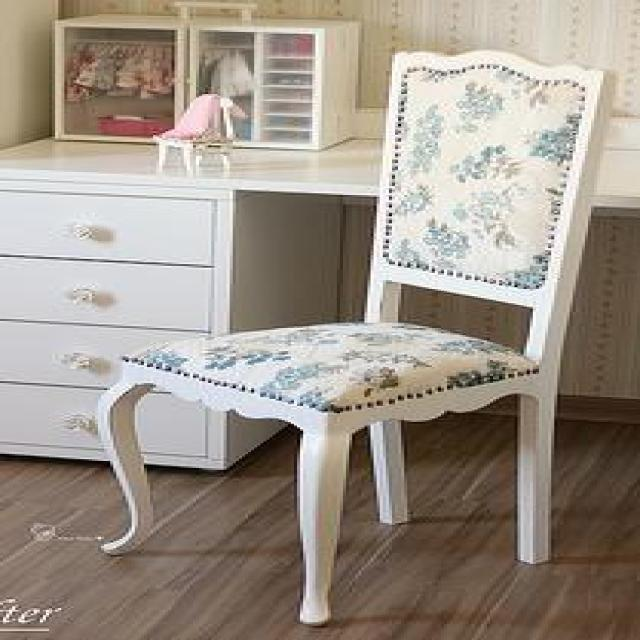chair: (92, 44, 618, 626)
